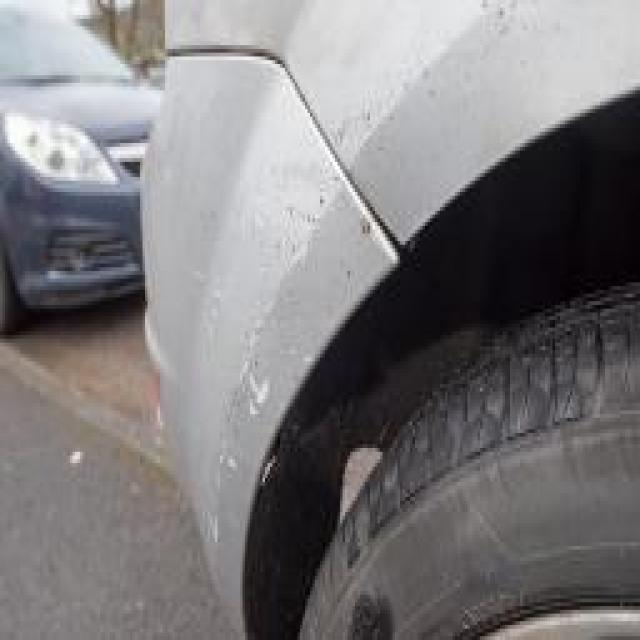Bumper: (160, 87, 308, 640)
